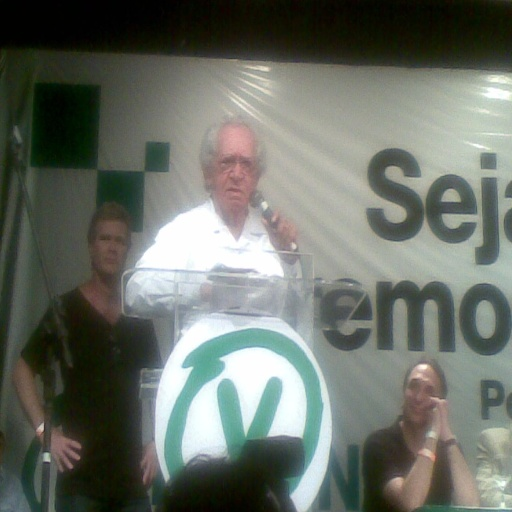hand: (261, 205, 299, 259), (38, 428, 70, 483), (137, 440, 159, 494), (426, 395, 450, 441), (415, 407, 441, 441)
